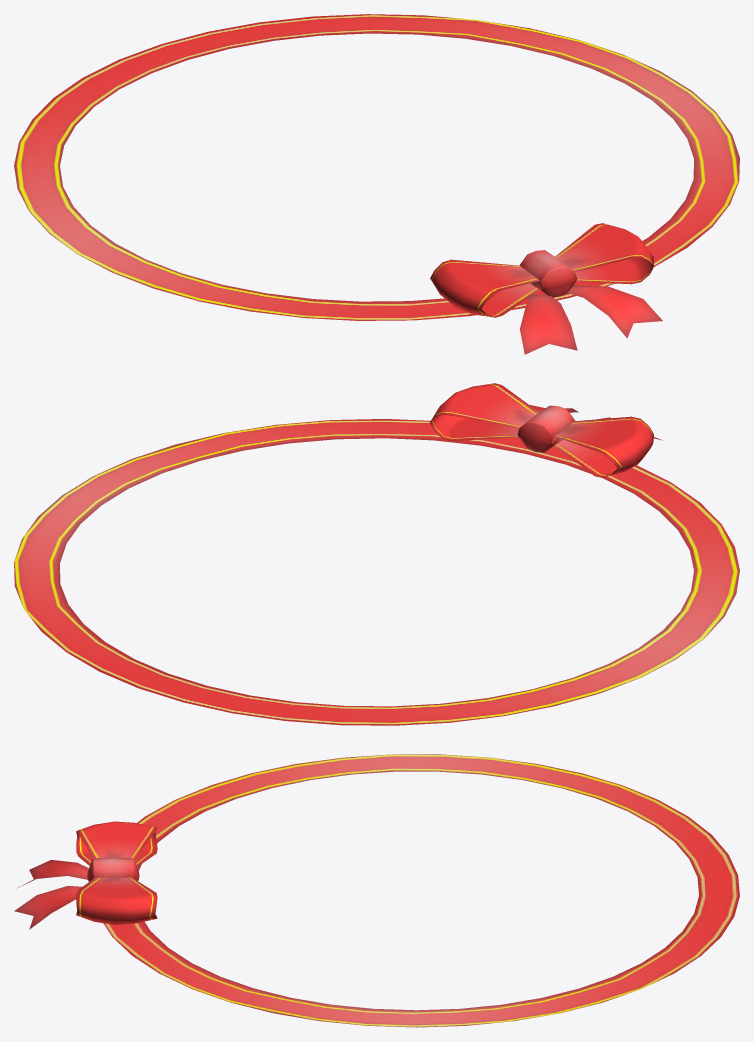
The model's file is ribbon_circle.fbx.
3 views of the same model, one above another, from view 1: azimuth 30°, elevation 25°; view 2: azimuth 150°, elevation 25°; view 3: azimuth 270°, elevation 25° (orthographic). The views are drawn at different scales.
Parts seen in each view (by area): view 1: polySurface7; view 2: polySurface7; view 3: polySurface7.
Boxes of the visible parts, bbox=[...] form: polySurface7: bbox=[14, 14, 739, 354]; polySurface7: bbox=[14, 383, 739, 725]; polySurface7: bbox=[14, 754, 739, 1027].
Bounding box in the file's own units: 1218 × 84.66 × 1369.
